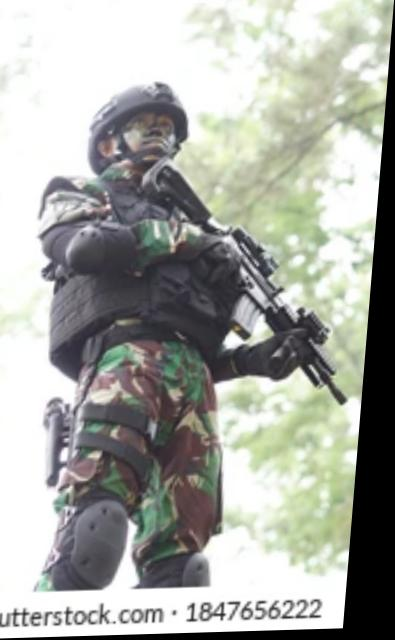other: (15, 70, 309, 588)
